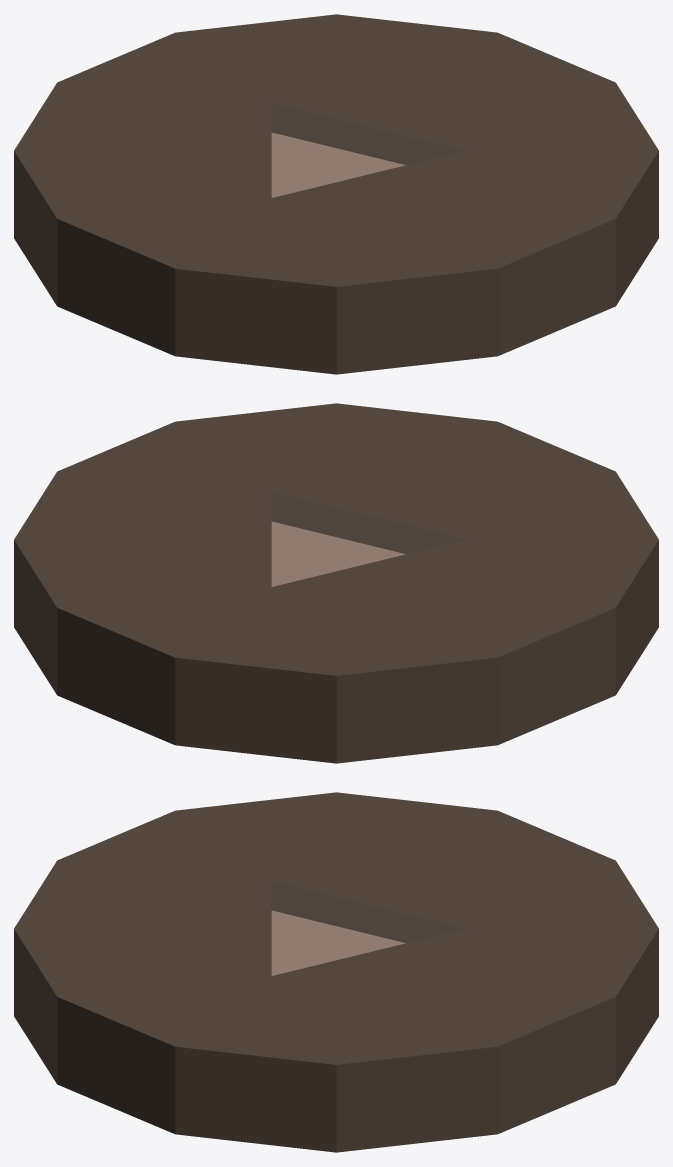
File: Parasite Token Mesh.fbx
The picture shows the model from 3 angles, top to bottom: view 1: azimuth 30°, elevation 25°; view 2: azimuth 150°, elevation 25°; view 3: azimuth 270°, elevation 25°; orthographic projection.
Visible parts, largest first — view 1: Token 1; view 2: Token 1; view 3: Token 1.
Part boxes in pixels (left/top/right/bottom): Token 1: left=14, top=14, right=658, bottom=374; Token 1: left=14, top=403, right=658, bottom=763; Token 1: left=14, top=792, right=658, bottom=1152.
Size of the model in its own units: 100 by 15 by 100.
